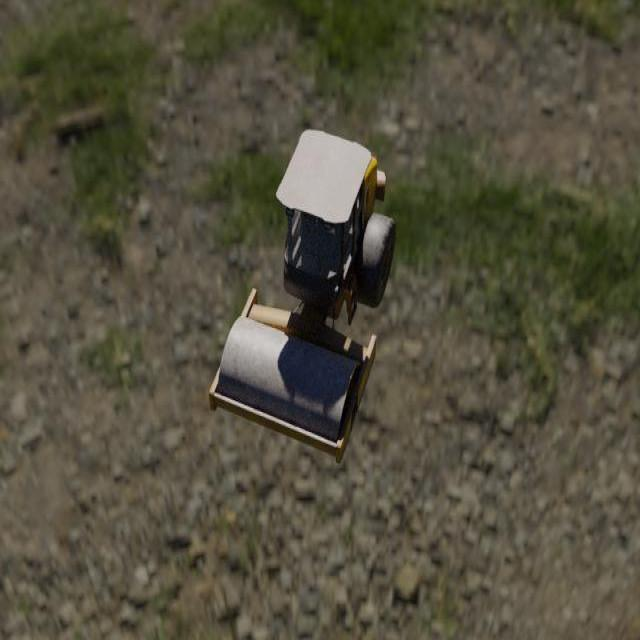Roller: (208, 129, 396, 464)
